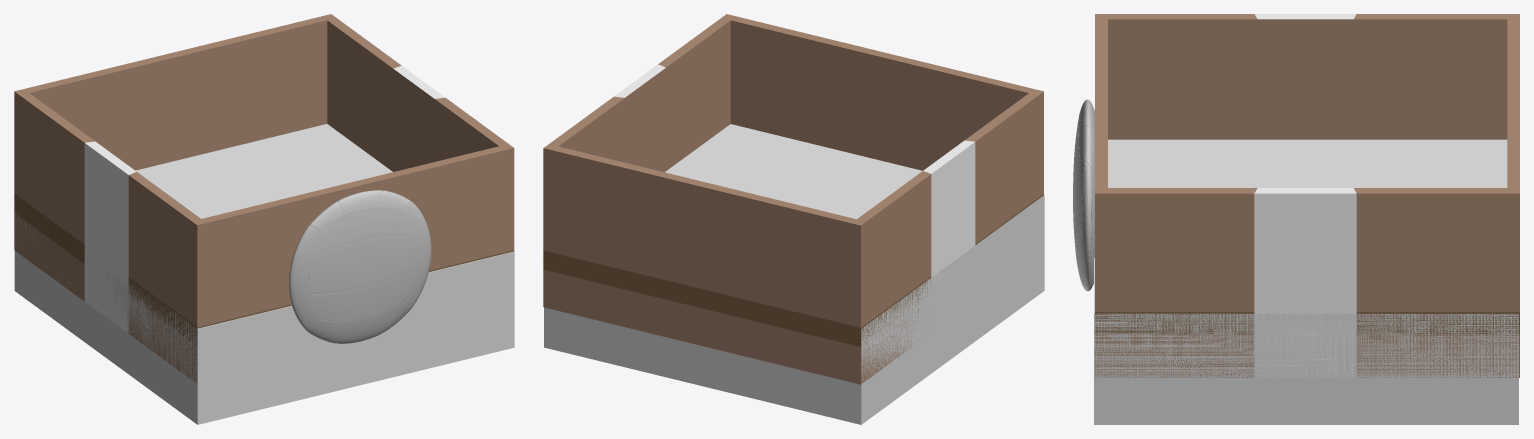
File: VolleyBallBox.gltf
The picture shows the model from 3 angles, left to right: view 1: azimuth 30°, elevation 25°; view 2: azimuth 150°, elevation 25°; view 3: azimuth 270°, elevation 25°; orthographic projection. The views are drawn at different scales.
Visible parts, largest first — view 1: Cube.003, COL, volleyball; view 2: Cube.003, COL; view 3: Cube.003, COL, volleyball.
Part boxes in pixels (bbox=[...]): Cube.003: bbox=[14, 14, 514, 383]; COL: bbox=[14, 124, 514, 424]; volleyball: bbox=[288, 190, 431, 343]; Cube.003: bbox=[543, 14, 1043, 384]; COL: bbox=[544, 124, 1044, 424]; Cube.003: bbox=[1095, 14, 1519, 377]; COL: bbox=[1094, 139, 1518, 424]; volleyball: bbox=[1073, 99, 1094, 291].
Bounding box in the file's own units: 2 × 1.2 × 2.1.
